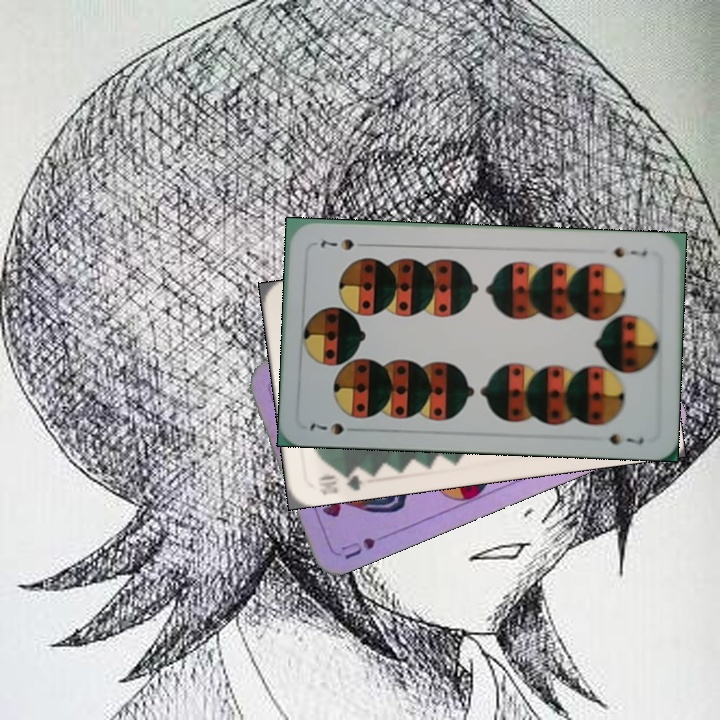G10: (314, 465, 366, 497)
S7: (306, 418, 347, 438), (609, 243, 650, 260)
SU: (337, 528, 394, 562)
